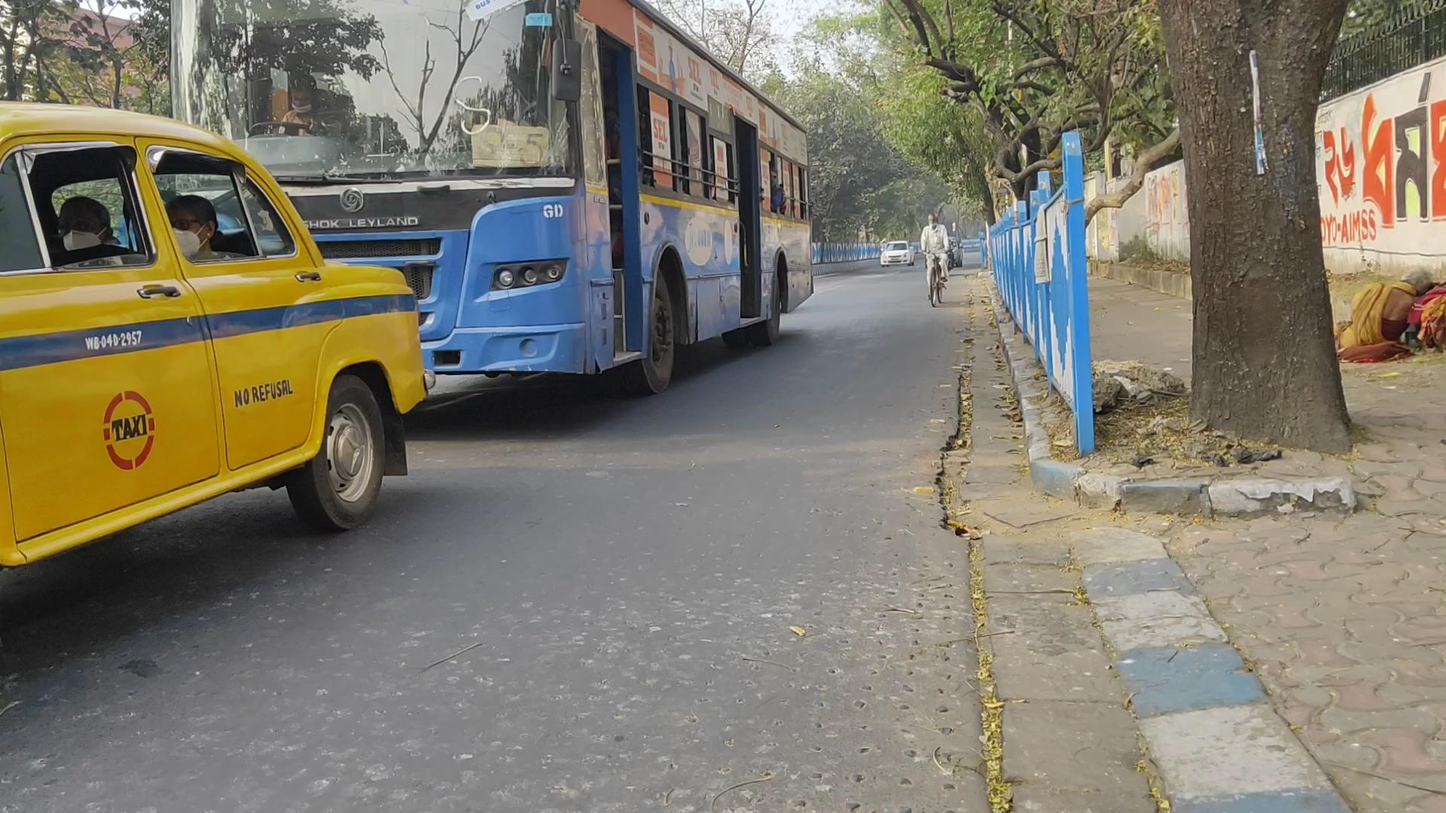Bus: (167, 1, 815, 401)
bike: (920, 212, 950, 307)
car: (1, 99, 436, 642), (880, 240, 915, 267)
